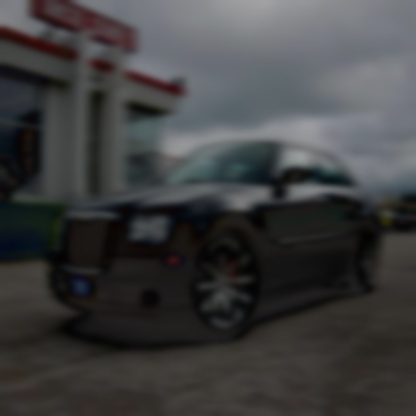Vehicle: (47, 137, 382, 344)
